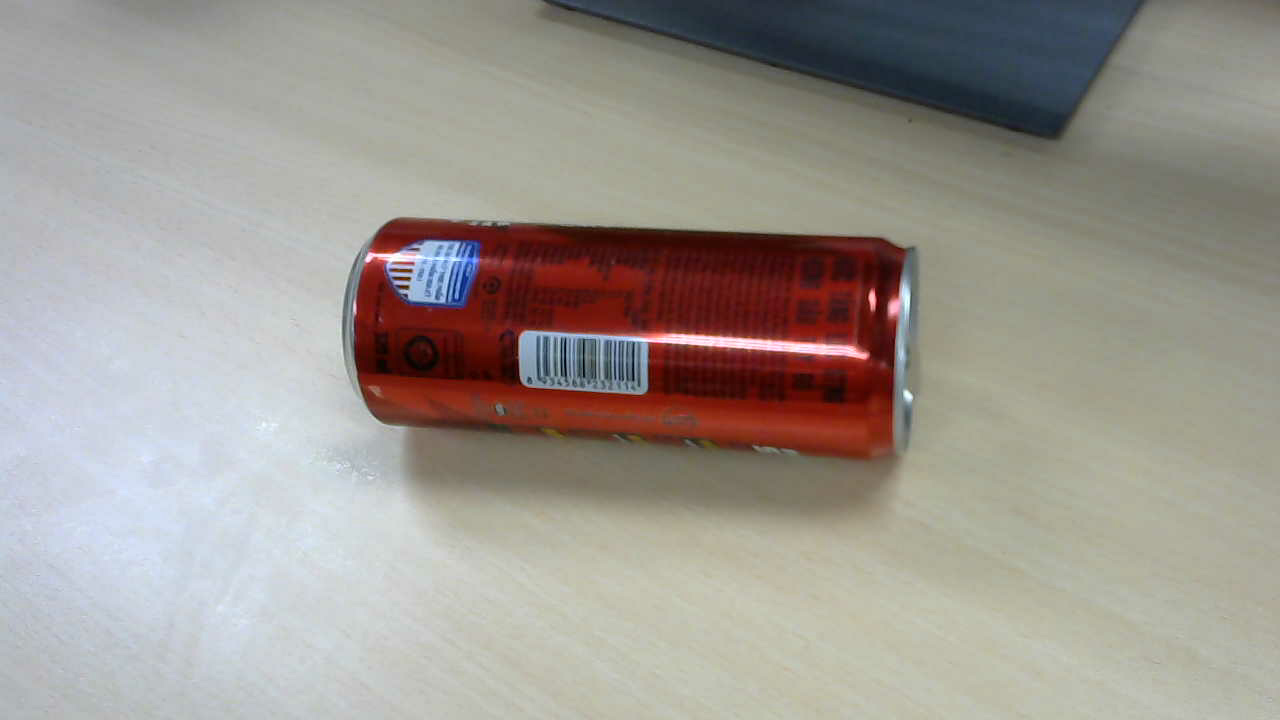Sting: (337, 227, 923, 484)
